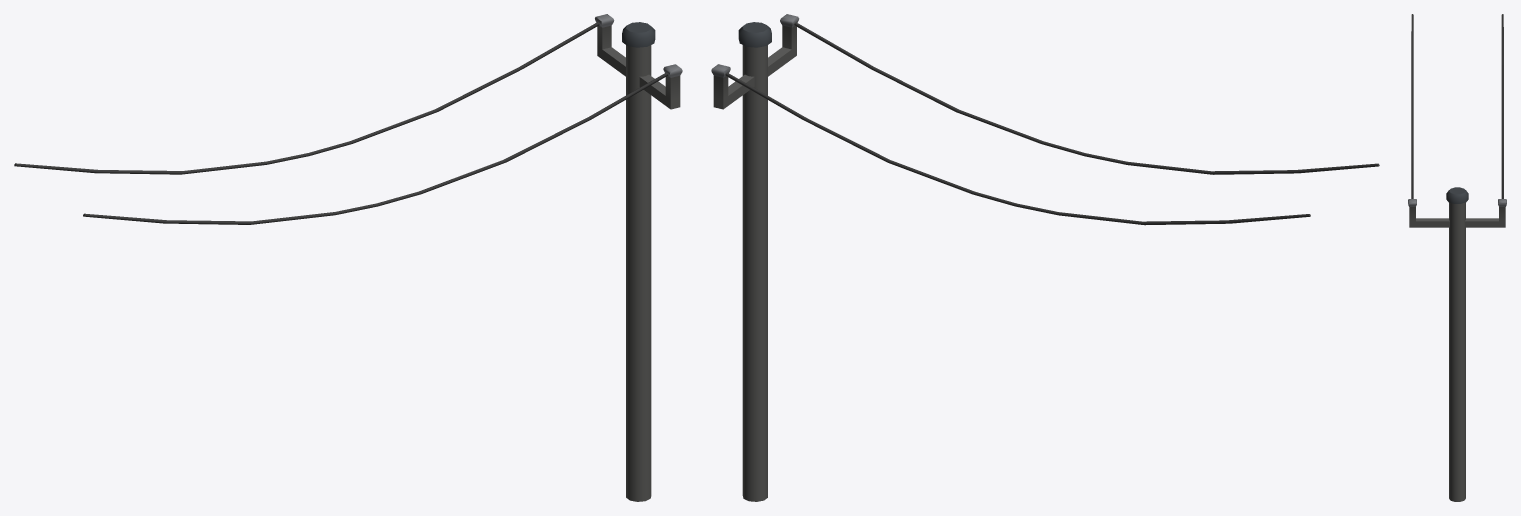
The model's file is Power Transmission Lamp_2.fbx.
The picture shows the model from 3 angles, left to right: view 1: azimuth 30°, elevation 25°; view 2: azimuth 150°, elevation 25°; view 3: azimuth 270°, elevation 25°; orthographic projection. The views are drawn at different scales.
Parts seen in each view (by area): view 1: Power Transmission Lamp_2; view 2: Power Transmission Lamp_2; view 3: Power Transmission Lamp_2.
Part boxes in pixels (<box>): Power Transmission Lamp_2: <box>14,14,682,501</box>; Power Transmission Lamp_2: <box>711,14,1379,501</box>; Power Transmission Lamp_2: <box>1408,14,1506,501</box>.
Size of the model in its own units: 516 by 383 by 111.
